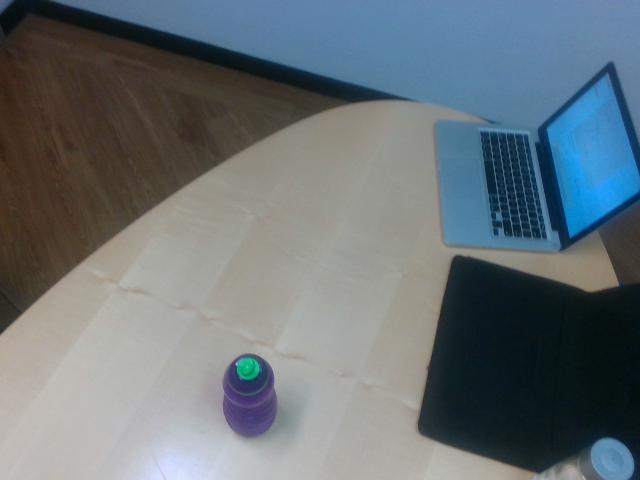bottle: (223, 355, 278, 438)
